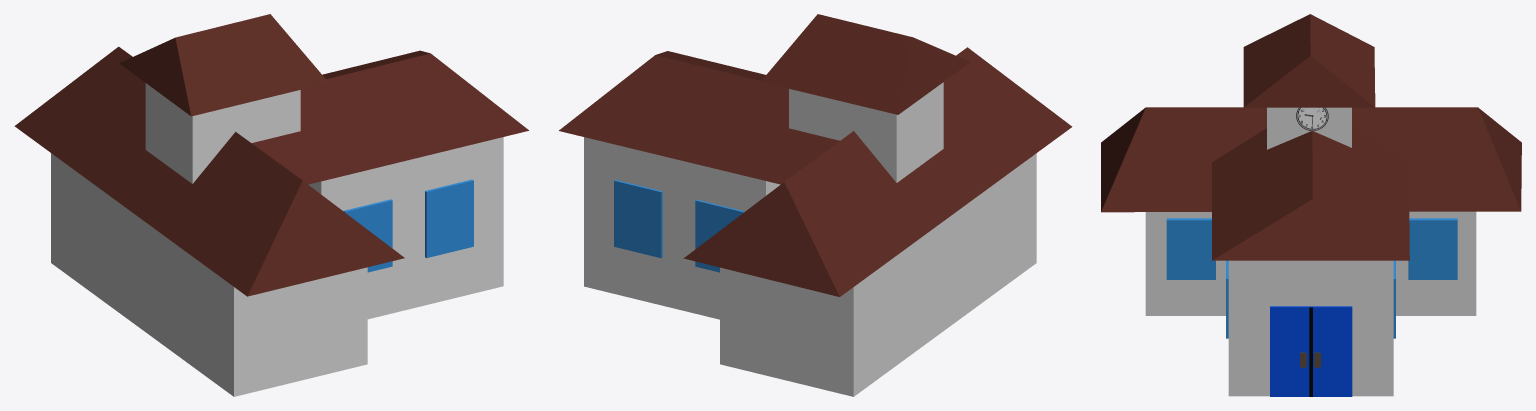
Rendered from School.fbx.
The picture shows the model from 3 angles, left to right: view 1: azimuth 30°, elevation 25°; view 2: azimuth 150°, elevation 25°; view 3: azimuth 270°, elevation 25°; orthographic projection. The views are drawn at different scales.
Visible parts, largest first — view 1: Base, BackRoof, FrontRoof, TopRoof, BigTop, Window.002, Window.004; view 2: Base, BackRoof, FrontRoof, TopRoof, BigTop, Window.005, Window.001; view 3: BackRoof, Base, FrontRoof, TopRoof, Door, Window.006, Window.003, BigTop, clock.
Part boxes in pixels (bbox=[...]): Base: bbox=[51, 83, 503, 396]; BackRoof: bbox=[14, 46, 404, 296]; FrontRoof: bbox=[252, 50, 528, 184]; TopRoof: bbox=[119, 14, 328, 116]; BigTop: bbox=[308, 137, 503, 197]; Window.002: bbox=[425, 179, 473, 258]; Window.004: bbox=[343, 199, 392, 272]; Base: bbox=[584, 82, 1036, 396]; BackRoof: bbox=[683, 47, 1072, 296]; FrontRoof: bbox=[559, 51, 839, 184]; TopRoof: bbox=[760, 14, 970, 114]; BigTop: bbox=[584, 137, 780, 197]; Window.005: bbox=[614, 180, 662, 258]; Window.001: bbox=[695, 199, 743, 272]; BackRoof: bbox=[1101, 107, 1521, 212]; Base: bbox=[1145, 107, 1476, 396]; FrontRoof: bbox=[1212, 125, 1409, 260]; TopRoof: bbox=[1243, 14, 1375, 107]; Door: bbox=[1270, 306, 1352, 396]; Window.006: bbox=[1408, 218, 1457, 279]; Window.003: bbox=[1166, 218, 1215, 279]; BigTop: bbox=[1228, 260, 1393, 276]; clock: bbox=[1296, 107, 1328, 130].
Bounding box in the file's own units: 4354 × 3450 × 5109.
Materials: 11 (1 with a texture image).
